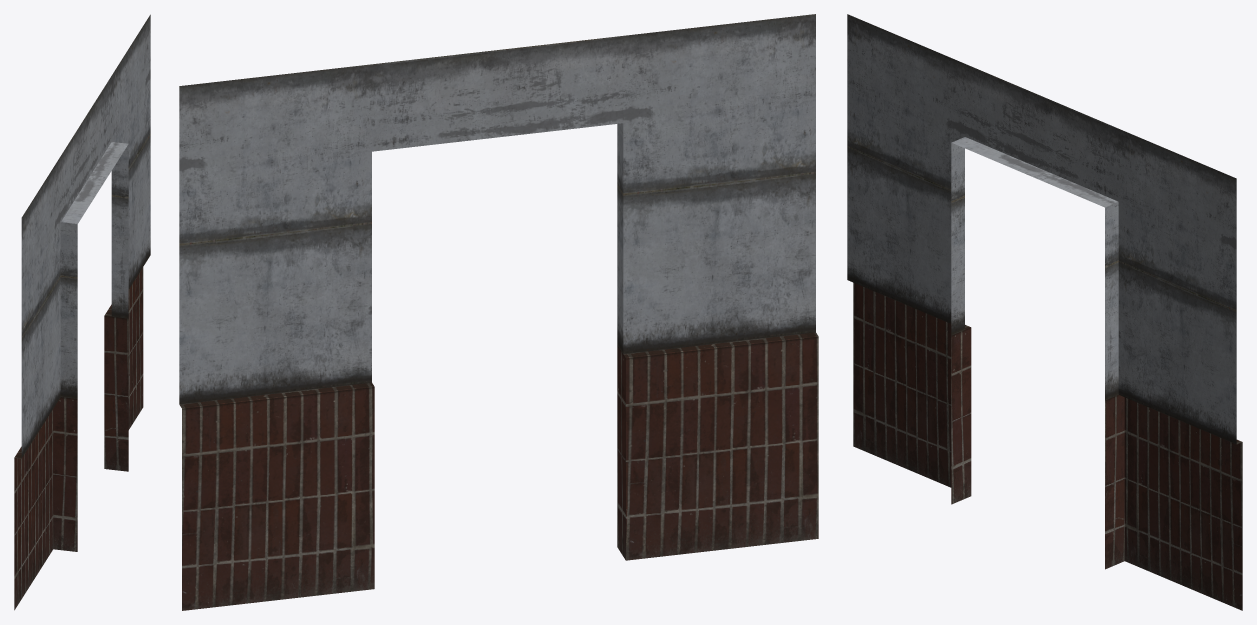
Rendered from Psychiatric_Ward_Guards_Room_Interior_Wall_45_Degree_Door.glb.
The picture shows the model from 3 angles, left to right: view 1: azimuth 30°, elevation 25°; view 2: azimuth 150°, elevation 25°; view 3: azimuth 270°, elevation 25°; orthographic projection. The views are drawn at different scales.
Visible parts, largest first — view 1: Psychiatric_Ward_Guards_Room_Interior_Wall_45_Degree_Door; view 2: Psychiatric_Ward_Guards_Room_Interior_Wall_45_Degree_Door; view 3: Psychiatric_Ward_Guards_Room_Interior_Wall_45_Degree_Door.
Part boxes in pixels (box(x1,y1,x2,y2)): Psychiatric_Ward_Guards_Room_Interior_Wall_45_Degree_Door: box(14, 14, 150, 610); Psychiatric_Ward_Guards_Room_Interior_Wall_45_Degree_Door: box(179, 14, 818, 610); Psychiatric_Ward_Guards_Room_Interior_Wall_45_Degree_Door: box(847, 14, 1242, 610).
Bounding box in the file's own units: 2.03 × 2.47 × 2.03.
1 material, 1 textured.
